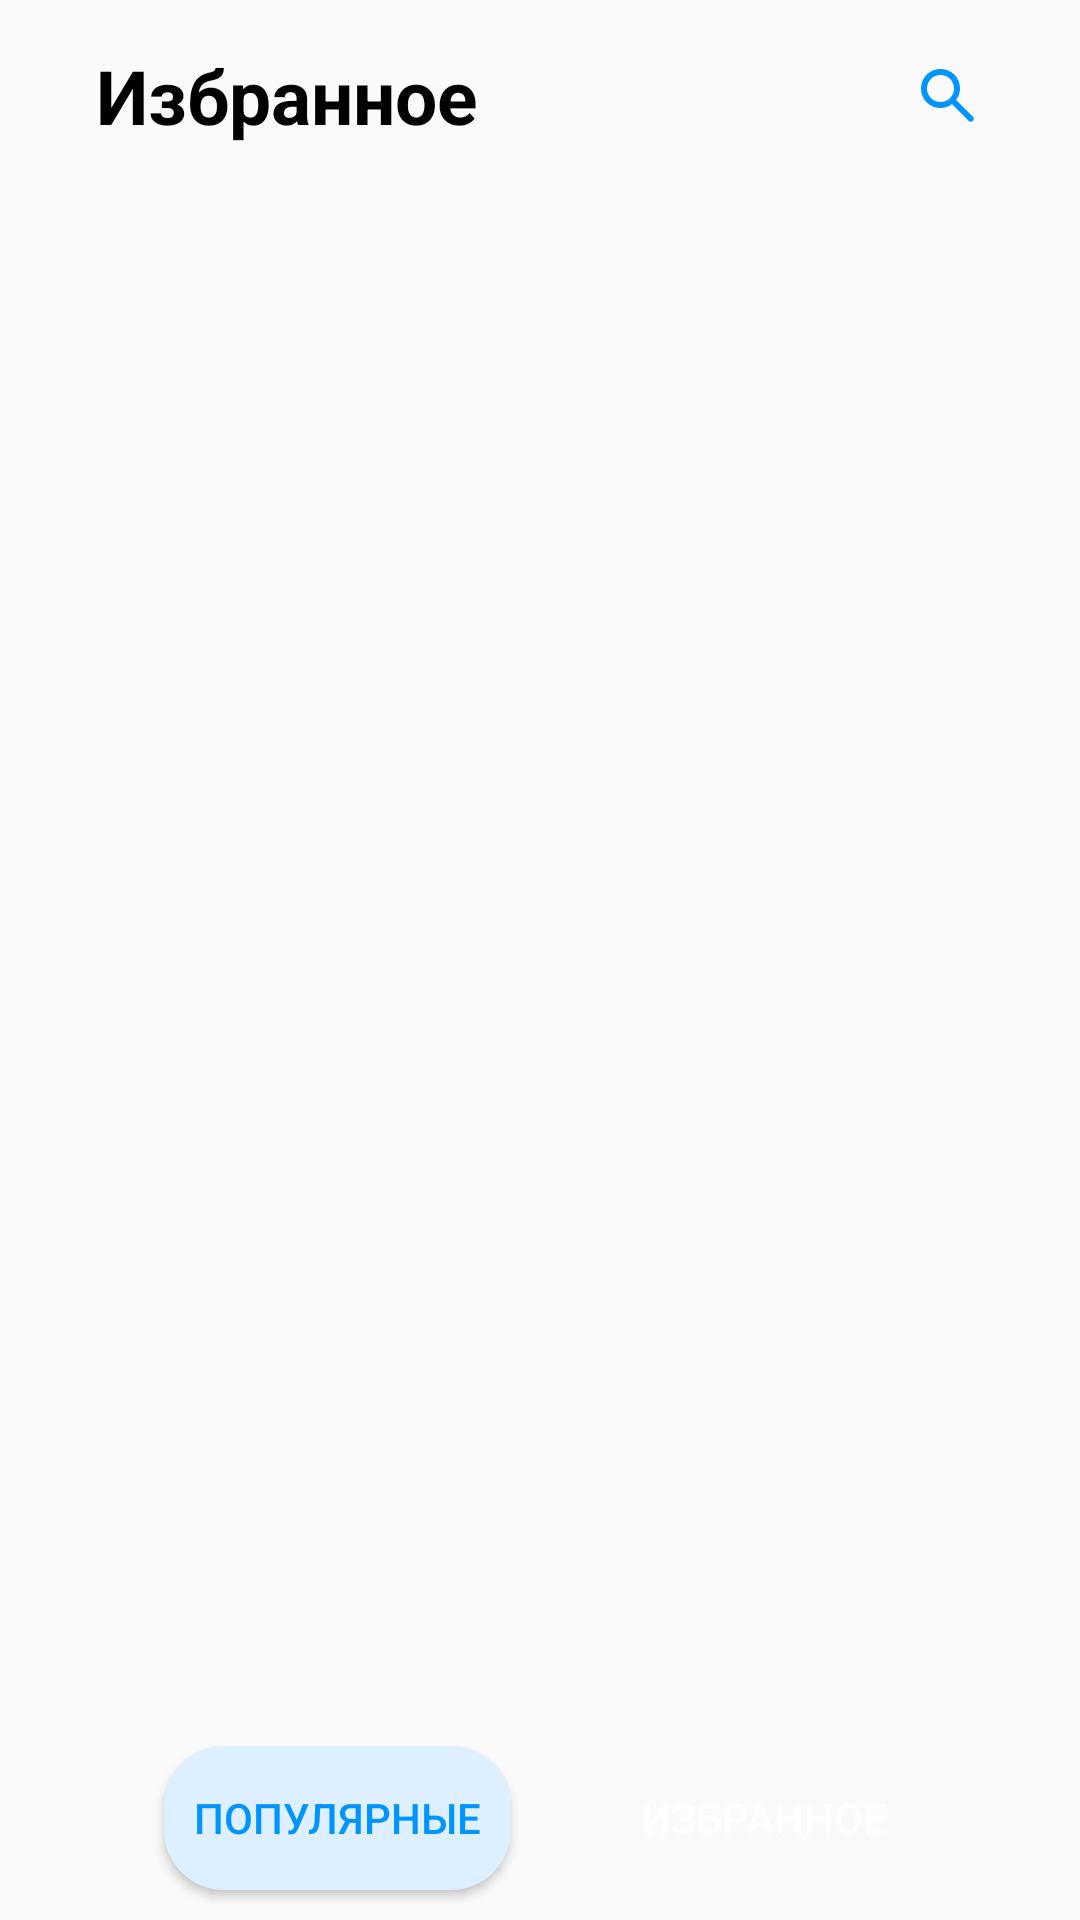

Icon click points for this 1080*1920 phone screenshot, format (x,y):
search: (947,95)
